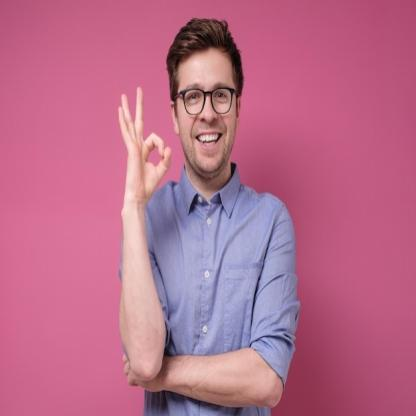ok: (114, 83, 174, 206)
